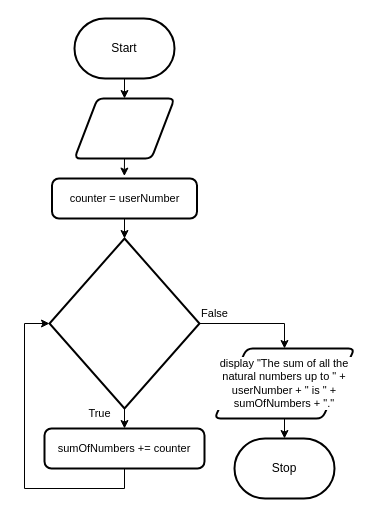
Some shapes in this 373 by 516 pixel diagram are drawn without their labels. The shapes that lost their labels are listed below. From the top down, each one's centre as x and y in pixels, then its label:
At point 124,128: "Get userNumber".
At point 124,323: "for counter = userNumber; counter > 0; counter--".
